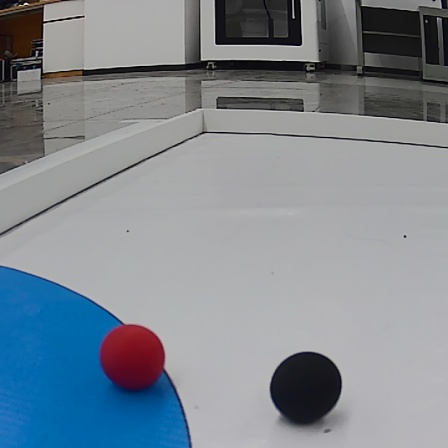black: (270, 353, 341, 424)
blue_base: (0, 263, 197, 447)
red: (100, 318, 162, 390)
